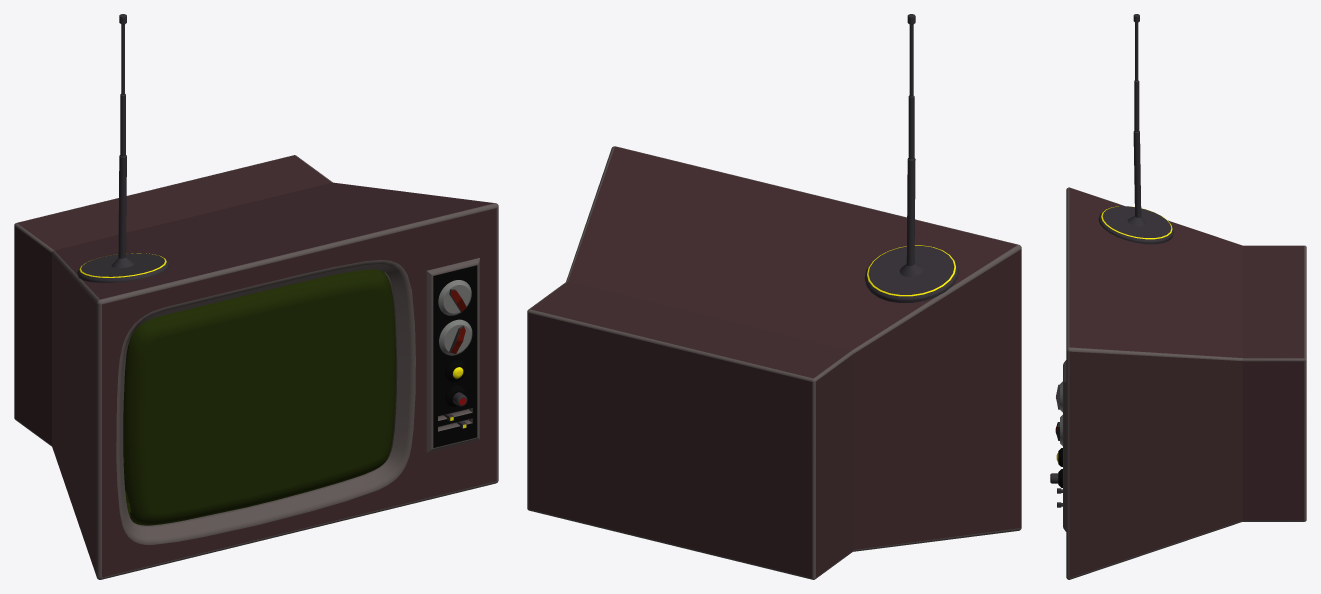
3 views of the same model, side by side, from view 1: azimuth 30°, elevation 25°; view 2: azimuth 150°, elevation 25°; view 3: azimuth 270°, elevation 25° (orthographic). The views are drawn at different scales.
Parts seen in each view (by area): view 1: body; view 2: body; view 3: body.
Boxes of the visible parts, left/top/right/bottom form: body: left=14, top=14, right=498, bottom=579; body: left=527, top=14, right=1021, bottom=579; body: left=1050, top=14, right=1306, bottom=579.
Bounding box in the file's own units: 2.61 × 3.23 × 1.74.
1 material, 1 textured.
